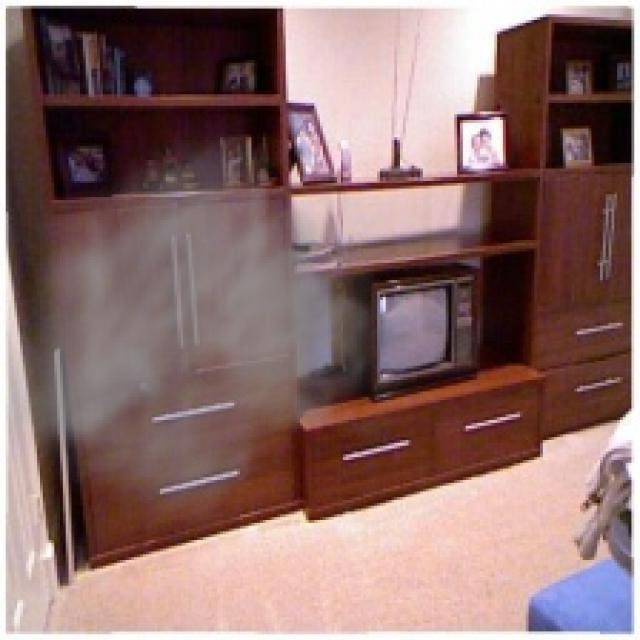Smoke: (8, 123, 420, 540)
